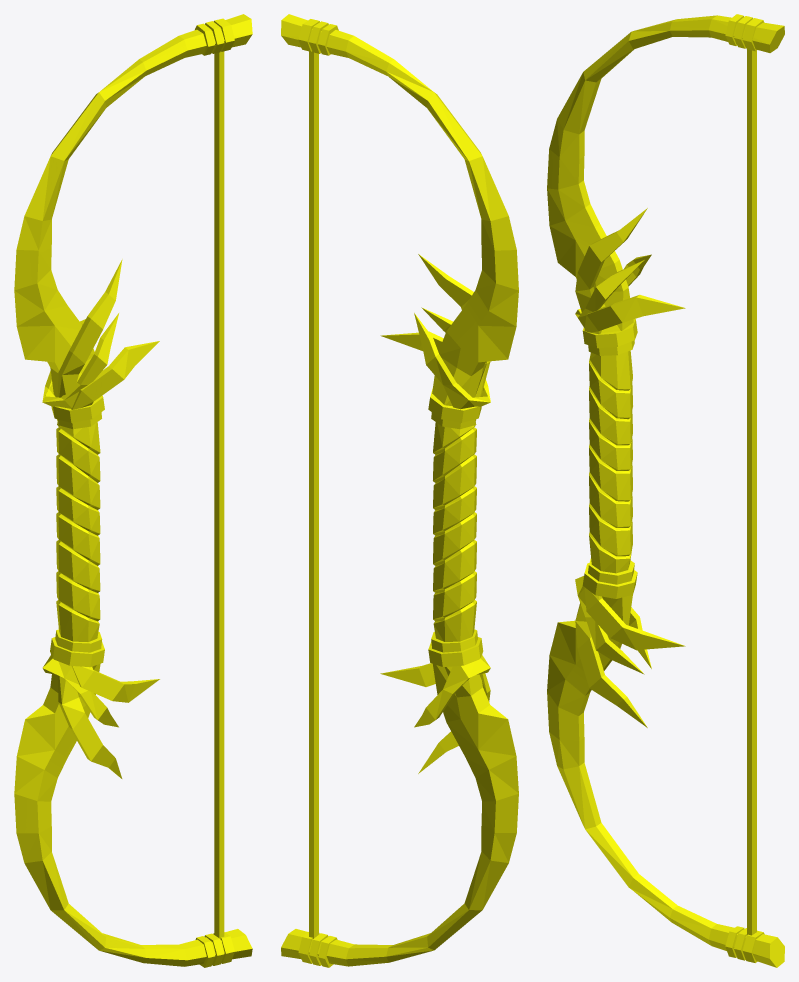
Rendered from _bow_4.glb.
The picture shows the model from 3 angles, left to right: view 1: azimuth 30°, elevation 25°; view 2: azimuth 150°, elevation 25°; view 3: azimuth 330°, elevation 25°; orthographic projection.
Parts seen in each view (by area): view 1: bow_4; view 2: bow_4; view 3: bow_4.
Part boxes in pixels (box(x1,y1,x2,y2)): bow_4: box(14, 14, 252, 967); bow_4: box(281, 14, 518, 967); bow_4: box(547, 14, 784, 967).
Size of the model in its own units: 0.2442 by 0.9366 by 0.0624.
1 material, 1 textured.
